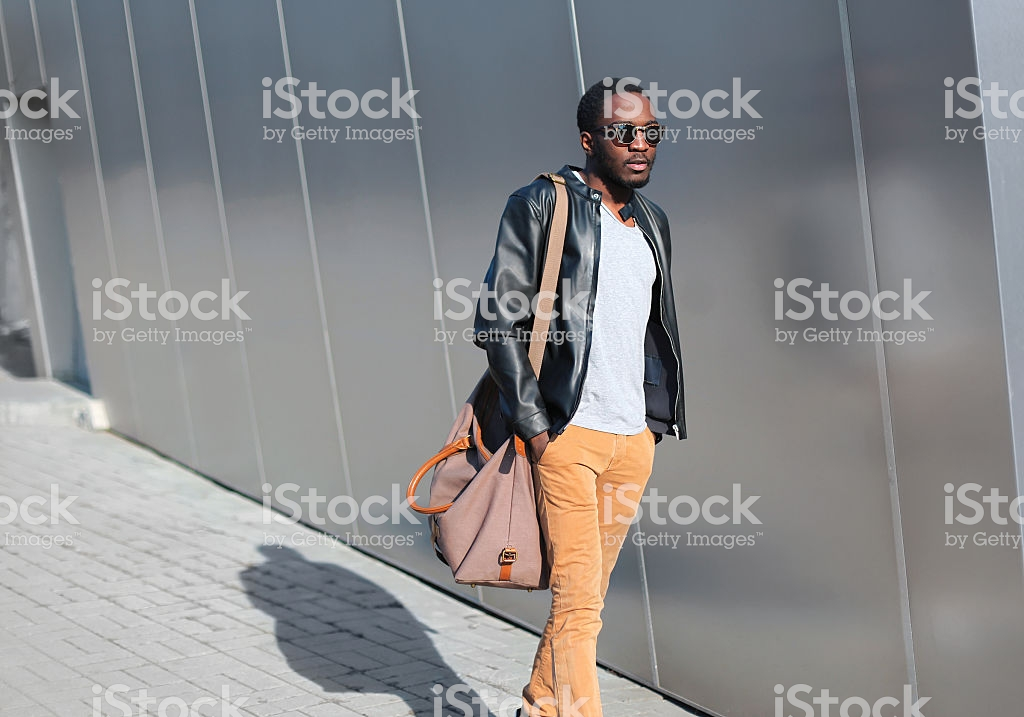shoulder bag: (403, 167, 577, 604)
